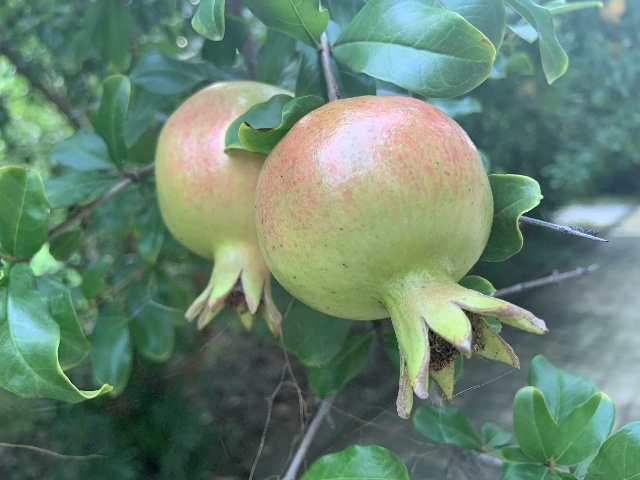mid-growth: (255, 95, 548, 418), (154, 80, 295, 333)
